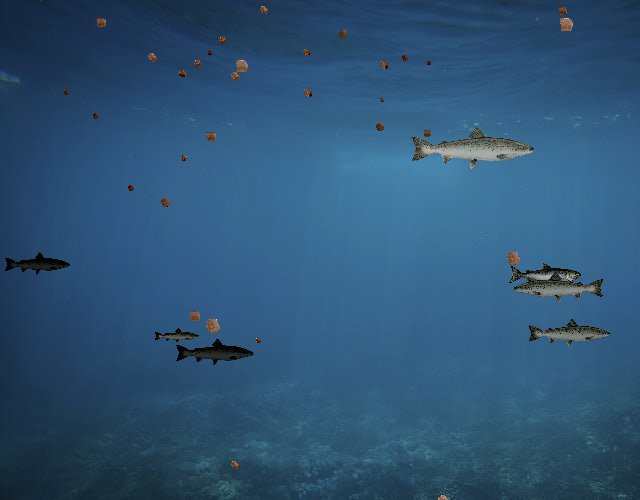Fish: (408, 124, 537, 170), (513, 271, 607, 305), (526, 317, 612, 348), (175, 337, 256, 367), (508, 263, 581, 289), (3, 252, 71, 276), (154, 327, 201, 344)
Pellet: (198, 310, 228, 340), (183, 305, 206, 328), (374, 56, 393, 75), (226, 456, 243, 474), (176, 151, 191, 166), (124, 181, 138, 195), (252, 334, 264, 346)
